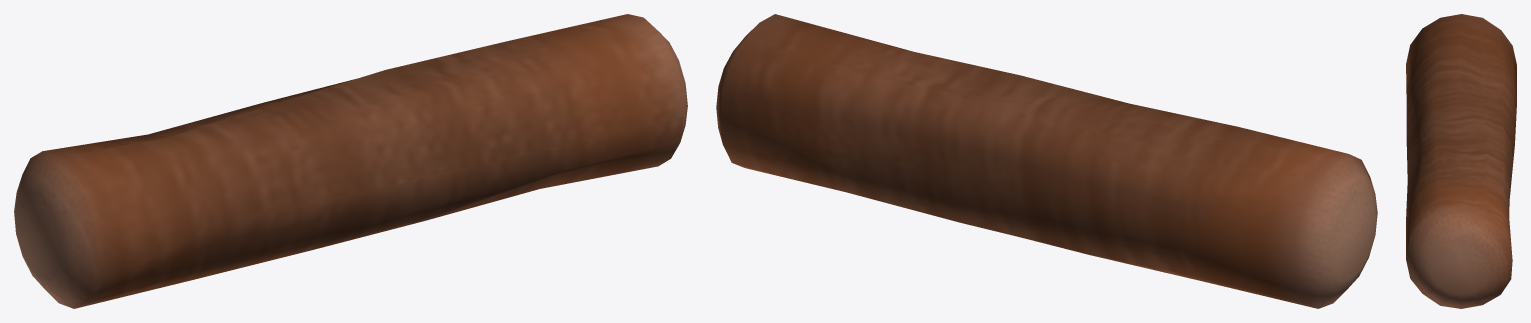
File: Log1.fbx
The picture shows the model from 3 angles, left to right: view 1: azimuth 30°, elevation 25°; view 2: azimuth 150°, elevation 25°; view 3: azimuth 270°, elevation 25°; orthographic projection. The views are drawn at different scales.
Parts seen in each view (by area): view 1: Log1; view 2: Log1; view 3: Log1.
Boxes of the visible parts, box(x1,y1,x2,y2) form: Log1: box(14, 14, 687, 308); Log1: box(716, 14, 1377, 308); Log1: box(1406, 14, 1516, 308).
Size of the model in its own units: 209 by 46.65 by 46.88.
